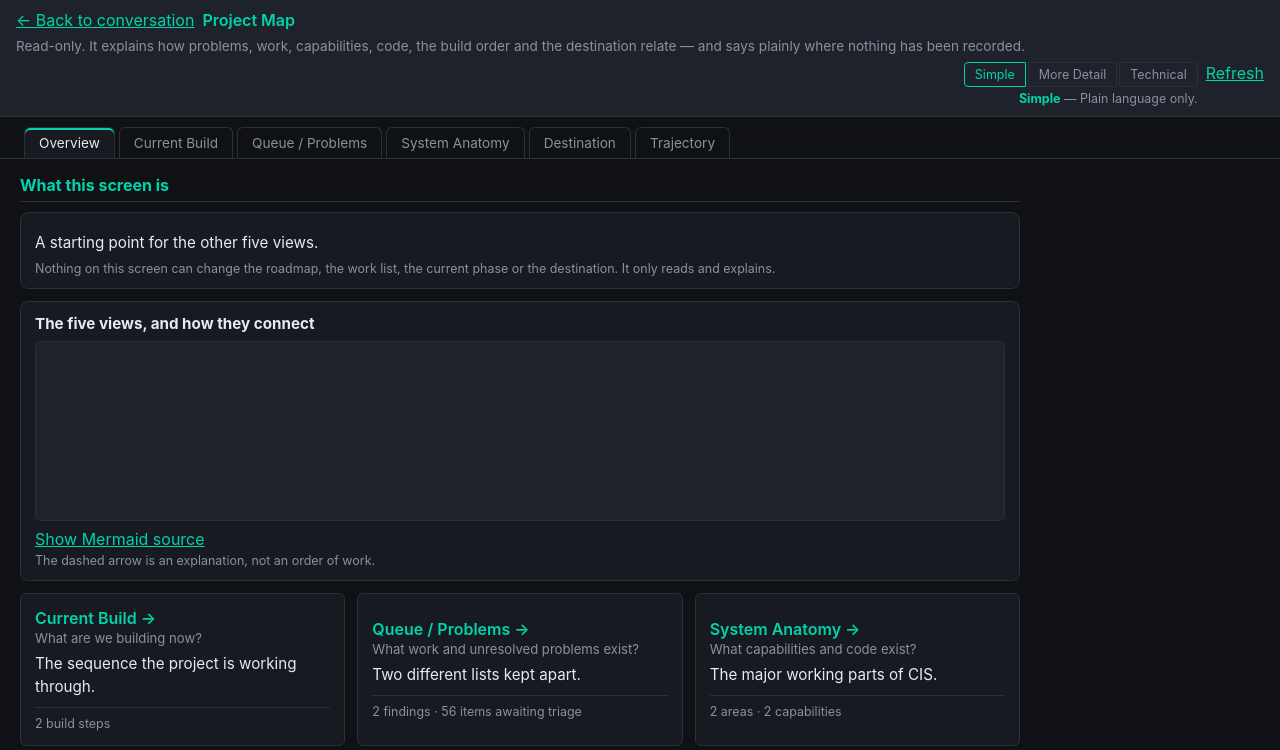
Test: ProjectMap — Overview › leads with plain language for every area and navigates on click
Expected: the text "A starting point for the other five views." is shown, x1=35 y1=233 x2=318 y2=252
Expected: the text "What work and unresolved problems exist?" is shown, x1=372 y1=641 x2=668 y2=657
Click the button "System Anatomy →" at {"x": 857, "y": 669}, box x1=695 y1=593 x2=1020 y2=746
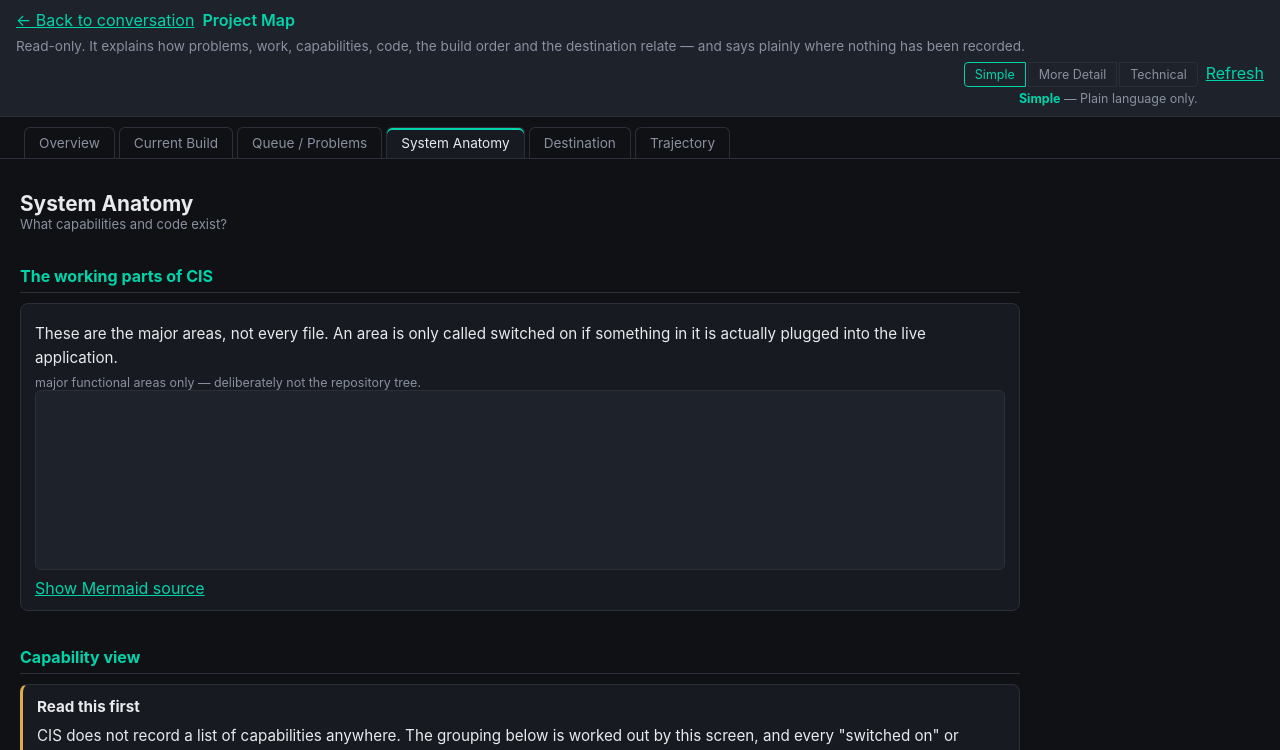
Now the heading "The working parts of CIS" is shown, box x1=20 y1=266 x2=1020 y2=293
